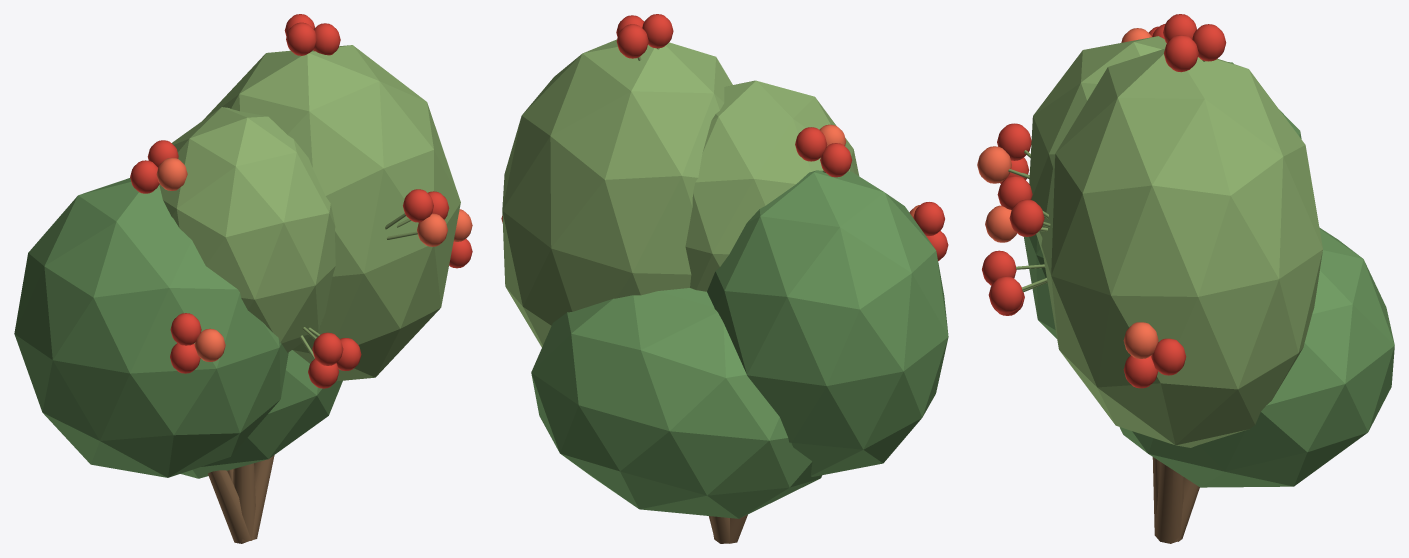
Rendered from bush_red_berry.glb.
3 renders of one model, left to right at view 1: azimuth 30°, elevation 25°; view 2: azimuth 150°, elevation 25°; view 3: azimuth 270°, elevation 25°, orthographic. The views are drawn at different scales.
Visible parts, largest first — view 1: Berry_Bush_Leaf_Cluster_0, Berry_Bush_Leaf_Cluster_1, Berry_Bush_Leaf_Cluster_3, Berry_Bush_Leaf_Cluster_2, Berry_Bush_Main_Branch_0, Berry_Bush_Main_Branch_3, Berry_Bush_Main_Branch_1, Berry_Bush_Red_Fruit_1_1, Berry_Bush_Red_Fruit_5_1, Berry_Bush_Red_Fruit_2_1, Berry_Bush_Red_Fruit_0_0, Berry_Bush_Red_Fruit_4_0 (+7 smaller); view 2: Berry_Bush_Leaf_Cluster_0, Berry_Bush_Leaf_Cluster_1, Berry_Bush_Leaf_Cluster_2, Berry_Bush_Leaf_Cluster_3, Berry_Bush_Red_Fruit_5_0, Berry_Bush_Red_Fruit_4_2, Berry_Bush_Red_Fruit_4_1, Berry_Bush_Red_Fruit_0_1, Berry_Bush_Red_Fruit_5_1; view 3: Berry_Bush_Leaf_Cluster_1, Berry_Bush_Leaf_Cluster_2, Berry_Bush_Leaf_Cluster_3, Berry_Bush_Main_Branch_1, Berry_Bush_Leaf_Cluster_0, Berry_Bush_Red_Fruit_1_0, Berry_Bush_Red_Fruit_2_0, Berry_Bush_Red_Fruit_0_0, Berry_Bush_Red_Fruit_5_2, Berry_Bush_Red_Fruit_3_1, Berry_Bush_Red_Fruit_3_0, Berry_Bush_Red_Fruit_5_0 (+7 smaller).
Part boxes in pixels (x1=…): Berry_Bush_Leaf_Cluster_0: x1=14, y1=178, x2=288, y2=477; Berry_Bush_Leaf_Cluster_1: x1=202, y1=45, x2=460, y2=381; Berry_Bush_Leaf_Cluster_3: x1=159, y1=107, x2=335, y2=352; Berry_Bush_Leaf_Cluster_2: x1=180, y1=350, x2=342, y2=478; Berry_Bush_Main_Branch_0: x1=208, y1=470, x2=250, y2=543; Berry_Bush_Main_Branch_3: x1=233, y1=463, x2=257, y2=541; Berry_Bush_Main_Branch_1: x1=252, y1=455, x2=274, y2=539; Berry_Bush_Red_Fruit_1_1: x1=312, y1=332, x2=343, y2=365; Berry_Bush_Red_Fruit_5_1: x1=286, y1=22, x2=316, y2=55; Berry_Bush_Red_Fruit_2_1: x1=403, y1=189, x2=433, y2=222; Berry_Bush_Red_Fruit_0_0: x1=194, y1=328, x2=225, y2=361; Berry_Bush_Red_Fruit_4_0: x1=156, y1=157, x2=187, y2=190; Berry_Bush_Leaf_Cluster_0: x1=707, y1=170, x2=948, y2=476; Berry_Bush_Leaf_Cluster_1: x1=502, y1=39, x2=732, y2=347; Berry_Bush_Leaf_Cluster_2: x1=531, y1=288, x2=821, y2=518; Berry_Bush_Leaf_Cluster_3: x1=685, y1=80, x2=859, y2=291; Berry_Bush_Red_Fruit_5_0: x1=616, y1=24, x2=648, y2=58; Berry_Bush_Red_Fruit_4_2: x1=820, y1=143, x2=852, y2=177; Berry_Bush_Red_Fruit_4_1: x1=795, y1=127, x2=827, y2=161; Berry_Bush_Red_Fruit_0_1: x1=913, y1=202, x2=944, y2=235; Berry_Bush_Red_Fruit_5_1: x1=642, y1=14, x2=673, y2=48; Berry_Bush_Leaf_Cluster_1: x1=1041, y1=48, x2=1322, y2=447; Berry_Bush_Leaf_Cluster_2: x1=1119, y1=227, x2=1394, y2=487; Berry_Bush_Leaf_Cluster_3: x1=1029, y1=36, x2=1166, y2=253; Berry_Bush_Main_Branch_1: x1=1154, y1=462, x2=1183, y2=543; Berry_Bush_Leaf_Cluster_0: x1=1024, y1=62, x2=1301, y2=338; Berry_Bush_Red_Fruit_1_0: x1=988, y1=276, x2=1023, y2=313; Berry_Bush_Red_Fruit_2_0: x1=1009, y1=199, x2=1044, y2=236; Berry_Bush_Red_Fruit_0_0: x1=977, y1=146, x2=1011, y2=183; Berry_Bush_Red_Fruit_5_2: x1=1164, y1=35, x2=1198, y2=72; Berry_Bush_Red_Fruit_3_1: x1=1123, y1=322, x2=1158, y2=358; Berry_Bush_Red_Fruit_3_0: x1=1151, y1=338, x2=1186, y2=375; Berry_Bush_Red_Fruit_5_0: x1=1192, y1=24, x2=1226, y2=61.
Size of the model in its own units: 1.02 by 1.16 by 0.7864.
